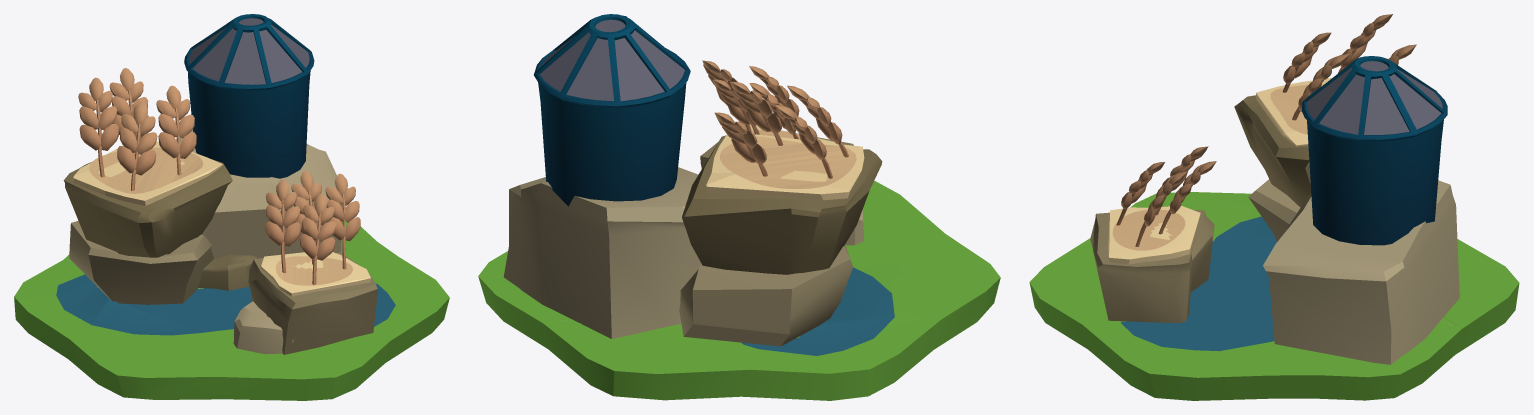
File: Hillside_GrainFarm.fbx
3 renders of one model, left to right at view 1: azimuth 30°, elevation 25°; view 2: azimuth 150°, elevation 25°; view 3: azimuth 270°, elevation 25°, orthographic. The views are drawn at different scales.
Visible parts, largest first — view 1: Hillside_GrainFarm; view 2: Hillside_GrainFarm; view 3: Hillside_GrainFarm.
Boxes of the visible parts, x1,y1,x2,y2 form: Hillside_GrainFarm: (14,14,449,400); Hillside_GrainFarm: (478,14,1000,400); Hillside_GrainFarm: (1029,14,1519,400).
Size of the model in its own units: 0.9193 by 0.6518 by 1.02.
